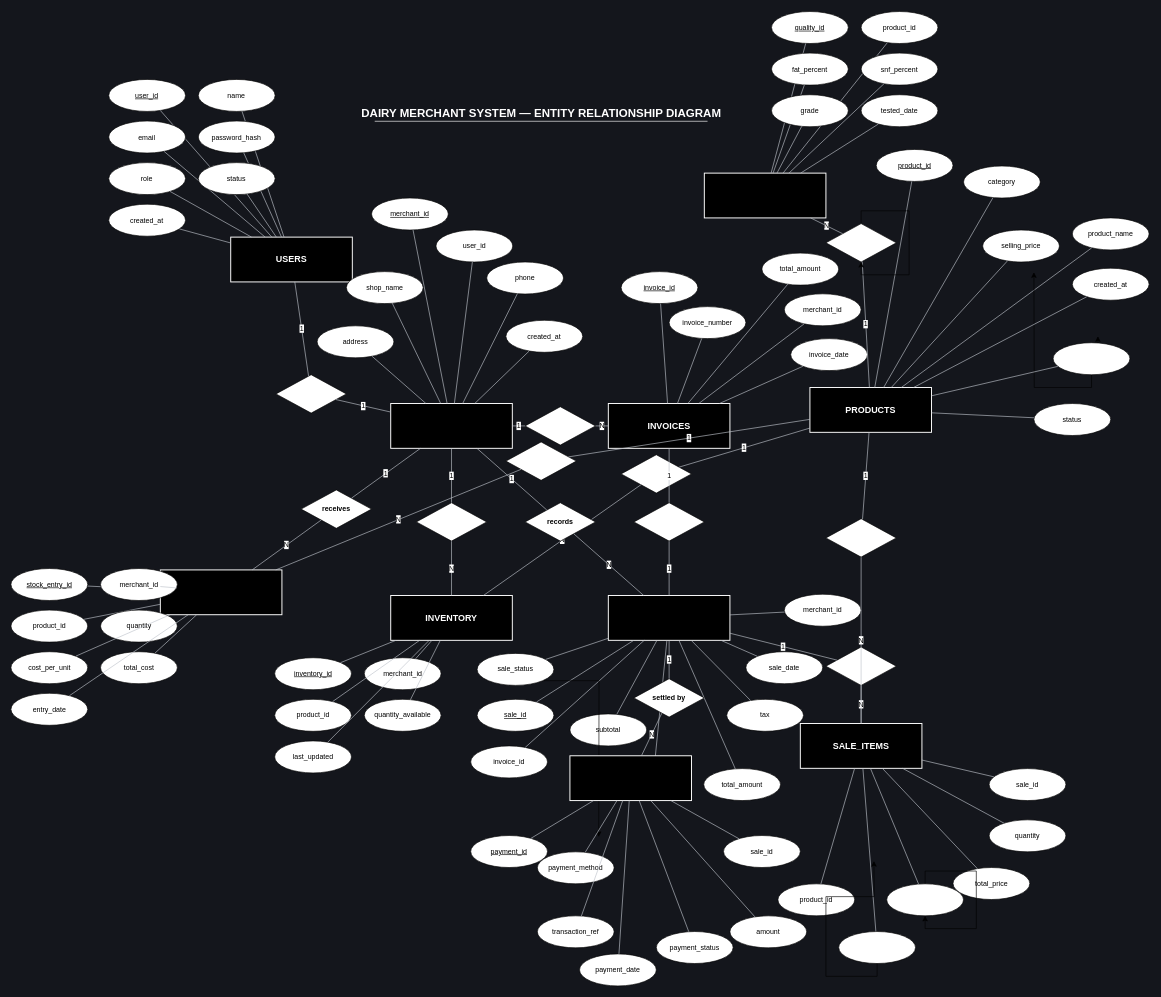
This 1161x997 diagram has some shape labels left out. Each missing label, with the box of its shape:
billed as: (633, 502, 704, 541)
contains: (825, 646, 896, 685)
holds: (416, 502, 487, 541)
issues: (524, 406, 596, 445)
MERCHANTS: (390, 403, 513, 449)
PAYMENTS: (569, 755, 692, 801)
PRODUCT_QUALITY: (704, 172, 826, 218)
registers as: (275, 374, 346, 413)
sale_item_id: (838, 931, 916, 964)
SALES: (608, 595, 730, 641)
sold as: (825, 518, 896, 557)
STOCK_ENTRIES: (160, 569, 282, 615)
stocked as: (505, 441, 576, 480)
tested for: (825, 223, 896, 262)
tracked as: (620, 454, 692, 493)
unit: (1052, 342, 1130, 375)
unit_price: (886, 883, 964, 916)
